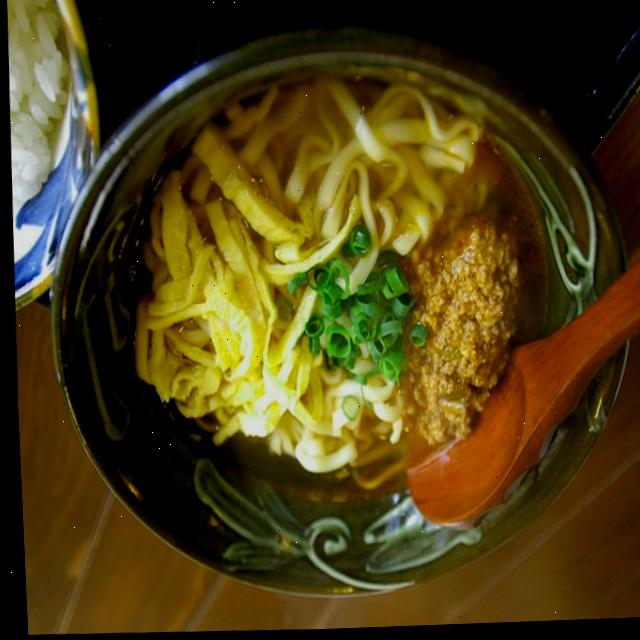寿司卷物: (35, 134, 433, 542)
